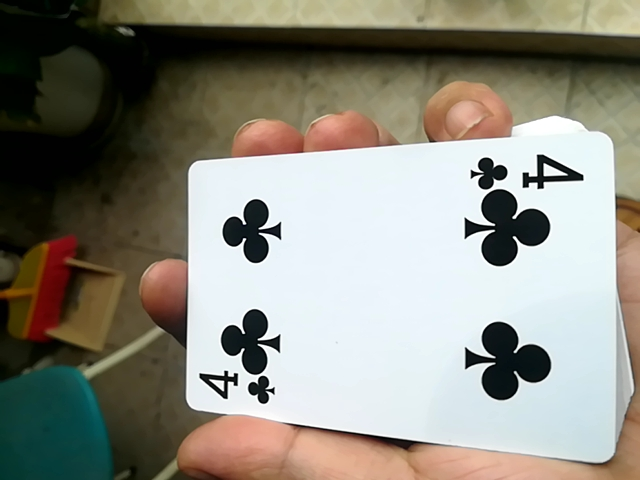mh 4: (178, 122, 615, 458)
